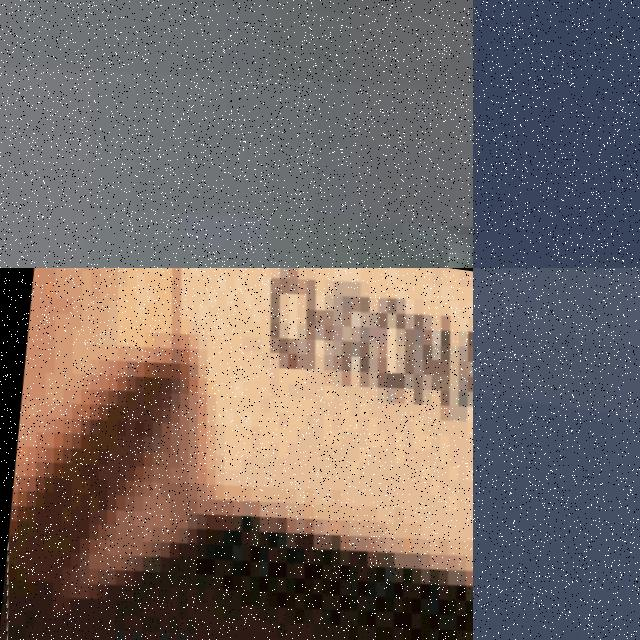drone: (0, 268, 473, 640), (0, 0, 473, 268)
